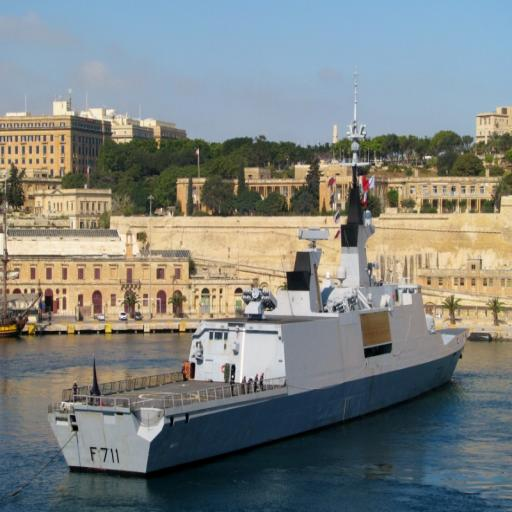Fragata: (45, 186, 473, 485)
